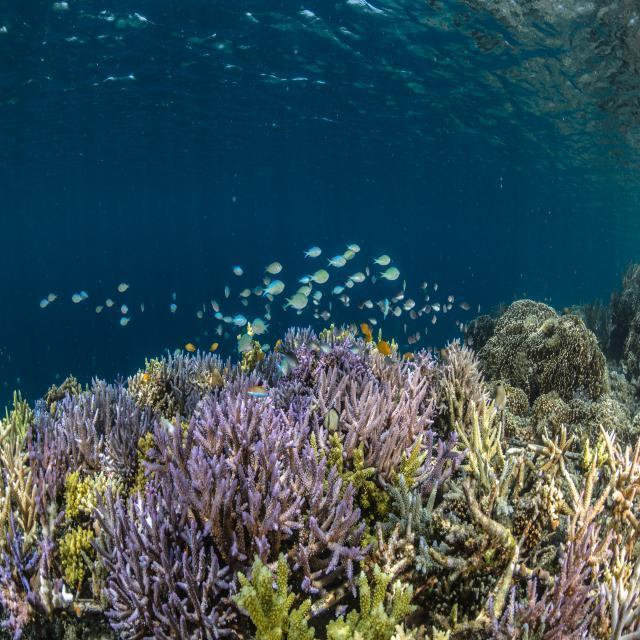Healthy Coral: (3, 340, 640, 636)
